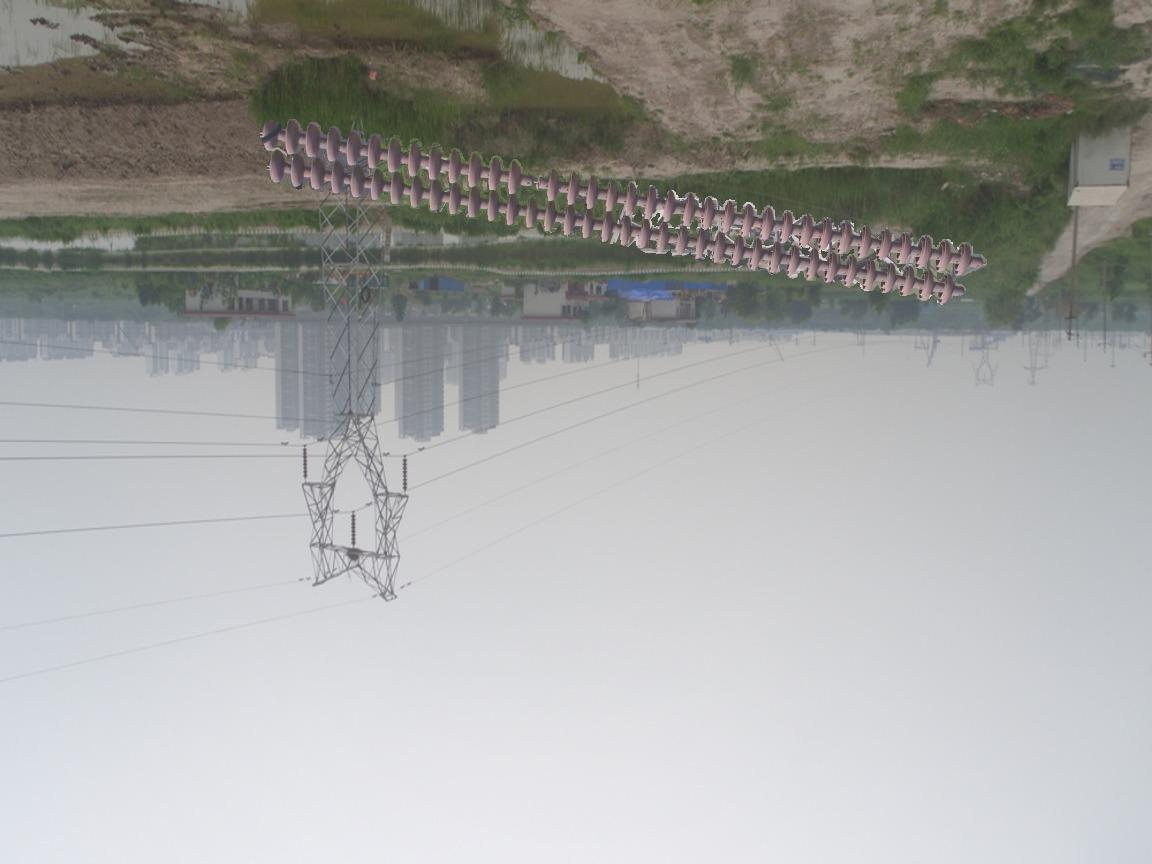insulator: (250, 110, 981, 308), (397, 455, 412, 492), (299, 444, 313, 479), (348, 508, 359, 548)
insulator_stringdrop: (504, 156, 562, 204)
